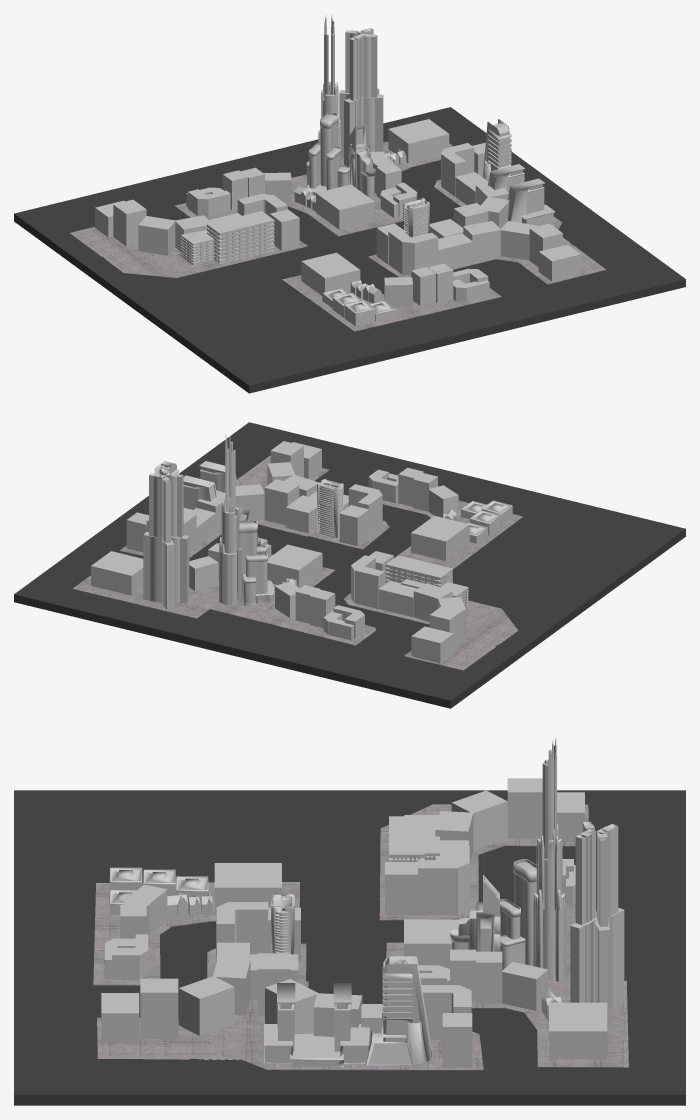
Rendered from city.dae.
The picture shows the model from 3 angles, top to bottom: view 1: azimuth 30°, elevation 25°; view 2: azimuth 150°, elevation 25°; view 3: azimuth 270°, elevation 25°; orthographic projection. The views are drawn at different scales.
Parts seen in each view (by area): view 1: The City, mesh01, bldgs2; view 2: The City, mesh01, bldgs2; view 3: The City, mesh01, bldgs2.
Part boxes in pixels (box(x1,y1,x2,y2)): The City: box(14, 107, 685, 393); mesh01: box(70, 119, 606, 331); bldgs2: box(180, 14, 555, 326); The City: box(14, 422, 685, 708); mesh01: box(72, 441, 522, 670); bldgs2: box(143, 434, 512, 610); The City: box(14, 790, 685, 1105); mesh01: box(93, 778, 628, 1070); bldgs2: box(109, 737, 624, 1067).
Size of the model in its own units: 2277 by 871 by 2124.
